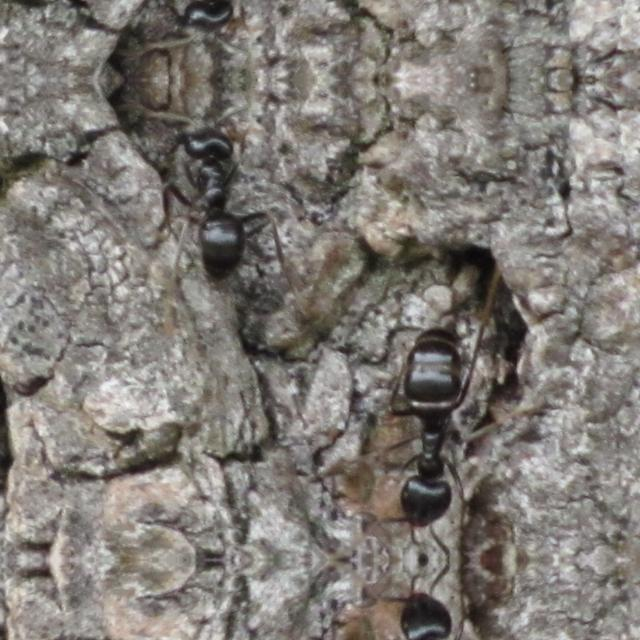Lasius: (388, 311, 492, 545), (148, 94, 278, 266), (148, 0, 278, 66), (388, 574, 492, 640)
